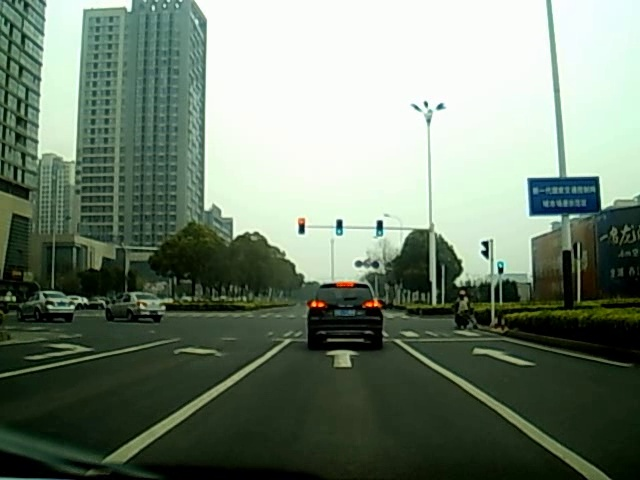Traffic_Light_go: (377, 220, 384, 238), (336, 220, 343, 237)
Traffic_Light_stop: (296, 217, 306, 237)
